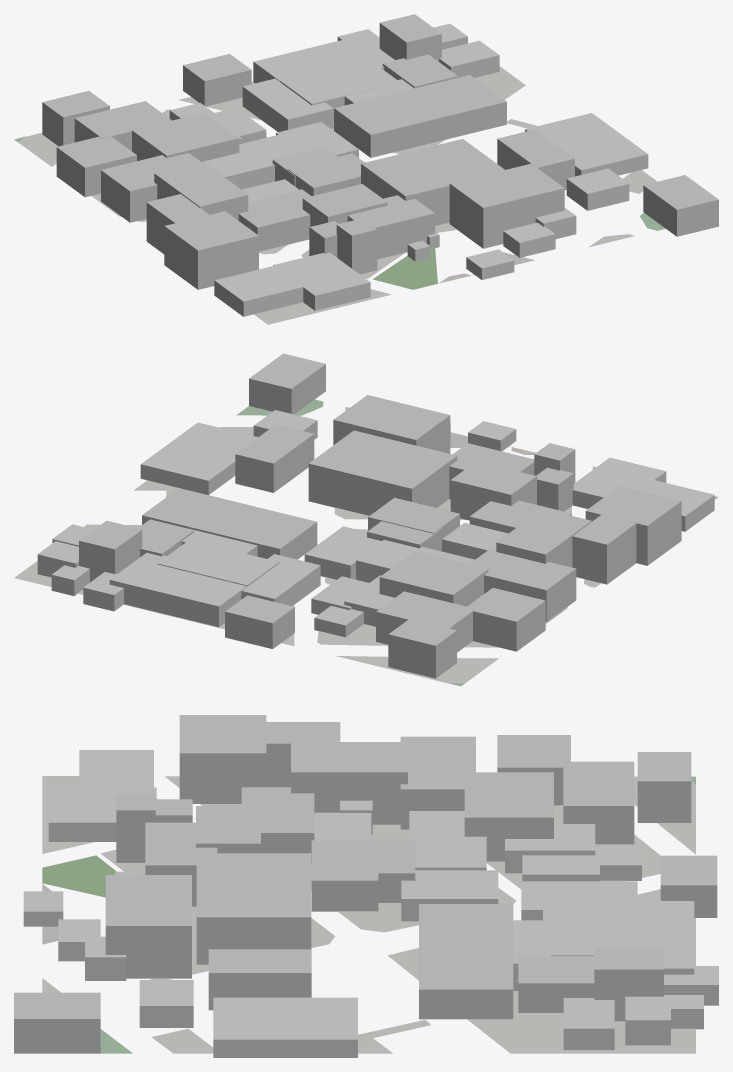
Rendered from 108_105_mid.glb.
3 views of the same model, one above another, from view 1: azimuth 30°, elevation 25°; view 2: azimuth 150°, elevation 25°; view 3: azimuth 270°, elevation 25° (orthographic). The views are drawn at different scales.
Size of the model in its own units: 526 by 45.8 by 539.
